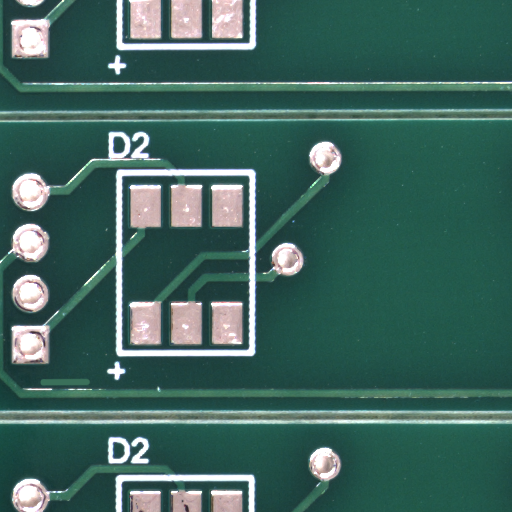Spurious_copper: (62, 382, 114, 395)
